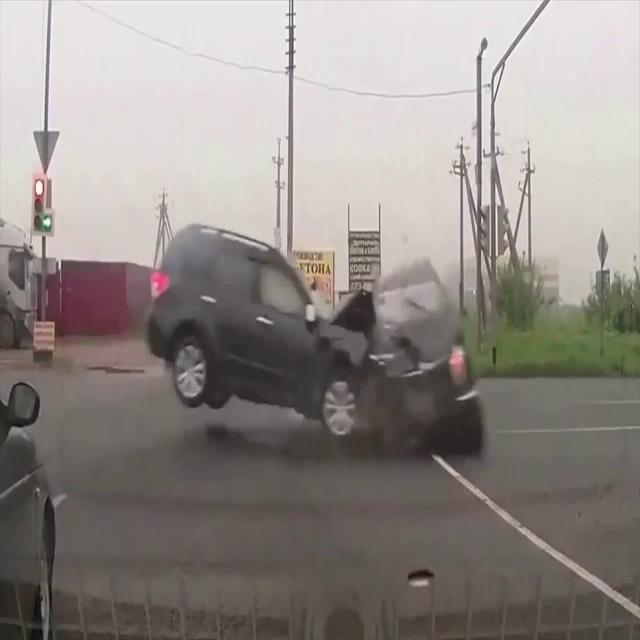accident: (146, 218, 488, 461)
